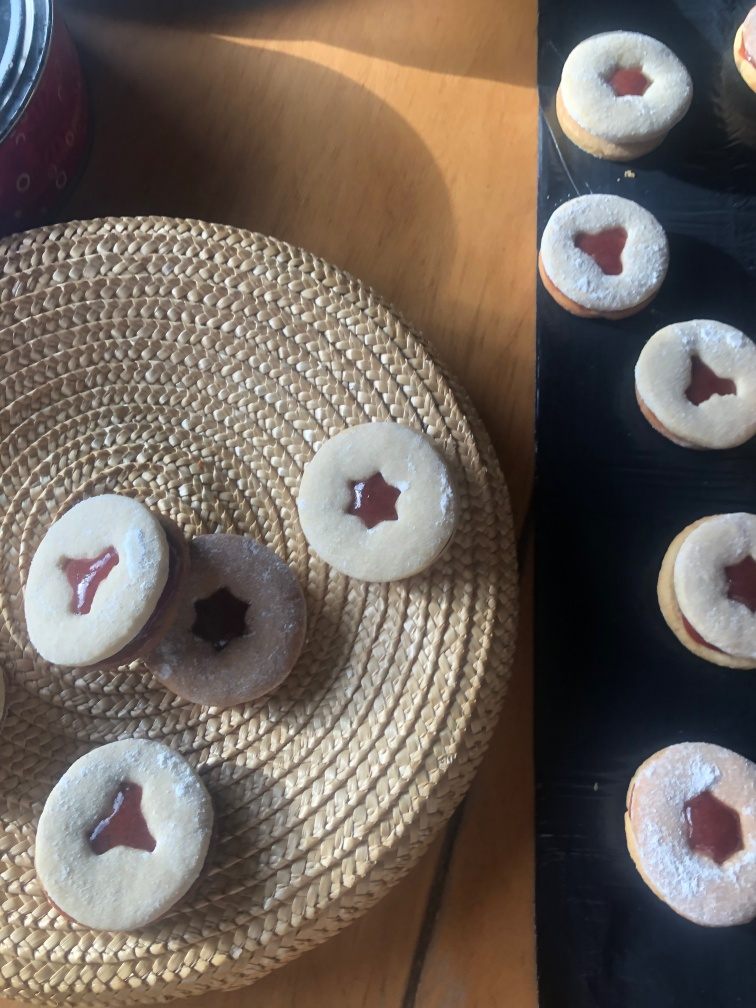christmas shortbread with jam: (32, 740, 212, 928), (296, 417, 456, 585), (24, 493, 172, 669), (173, 531, 313, 706), (623, 739, 755, 922), (554, 31, 699, 157), (538, 190, 672, 323), (638, 315, 756, 454), (665, 510, 756, 668)
